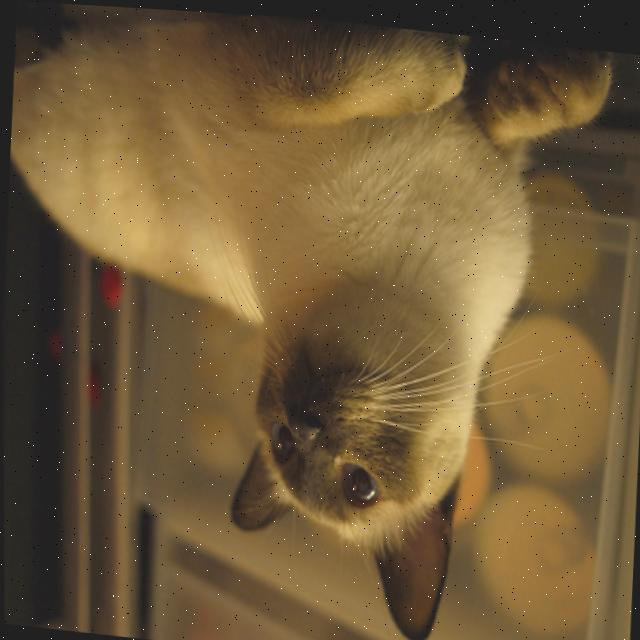Siamese: (0, 0, 622, 640)
